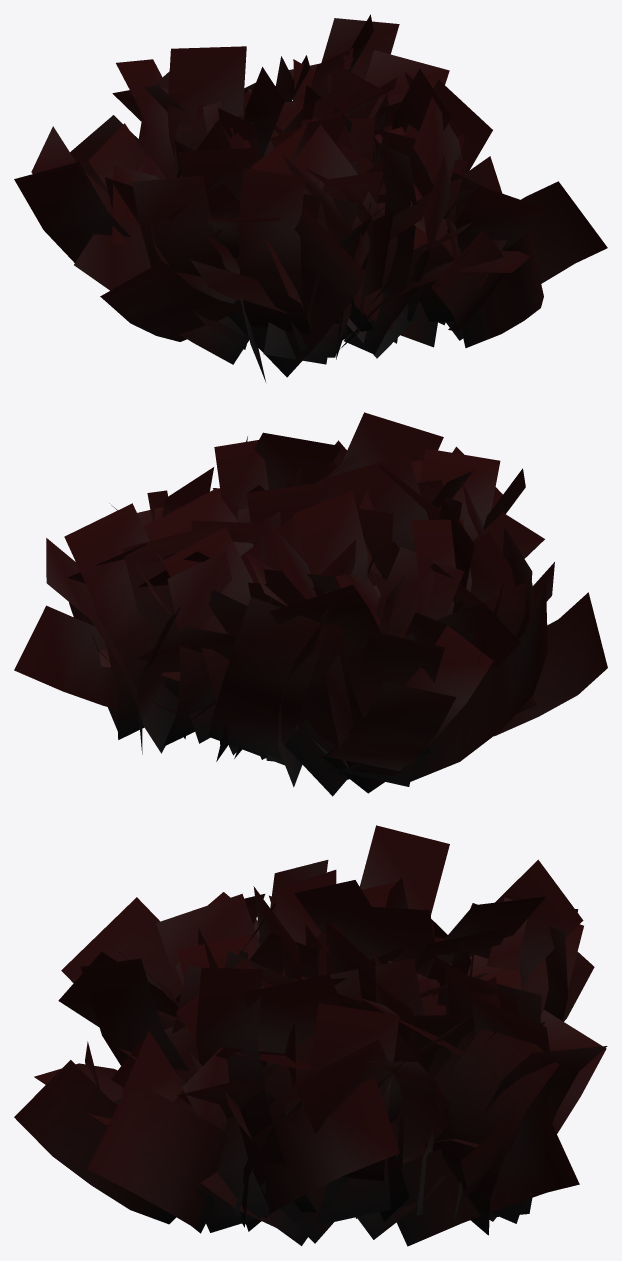
Rendered from Grass_Meduim.fbx.
The picture shows the model from 3 angles, top to bottom: view 1: azimuth 30°, elevation 25°; view 2: azimuth 150°, elevation 25°; view 3: azimuth 270°, elevation 25°; orthographic projection. The views are drawn at different scales.
Visible parts, largest first — view 1: Grass_Meduim_LOD0; view 2: Grass_Meduim_LOD0; view 3: Grass_Meduim_LOD0.
Part boxes in pixels (x1,y1,x2,y2): Grass_Meduim_LOD0: [14, 14, 607, 381]; Grass_Meduim_LOD0: [14, 412, 607, 796]; Grass_Meduim_LOD0: [14, 825, 607, 1246].
Size of what is drawn, in the model's own units: 173 by 88.92 by 173.
